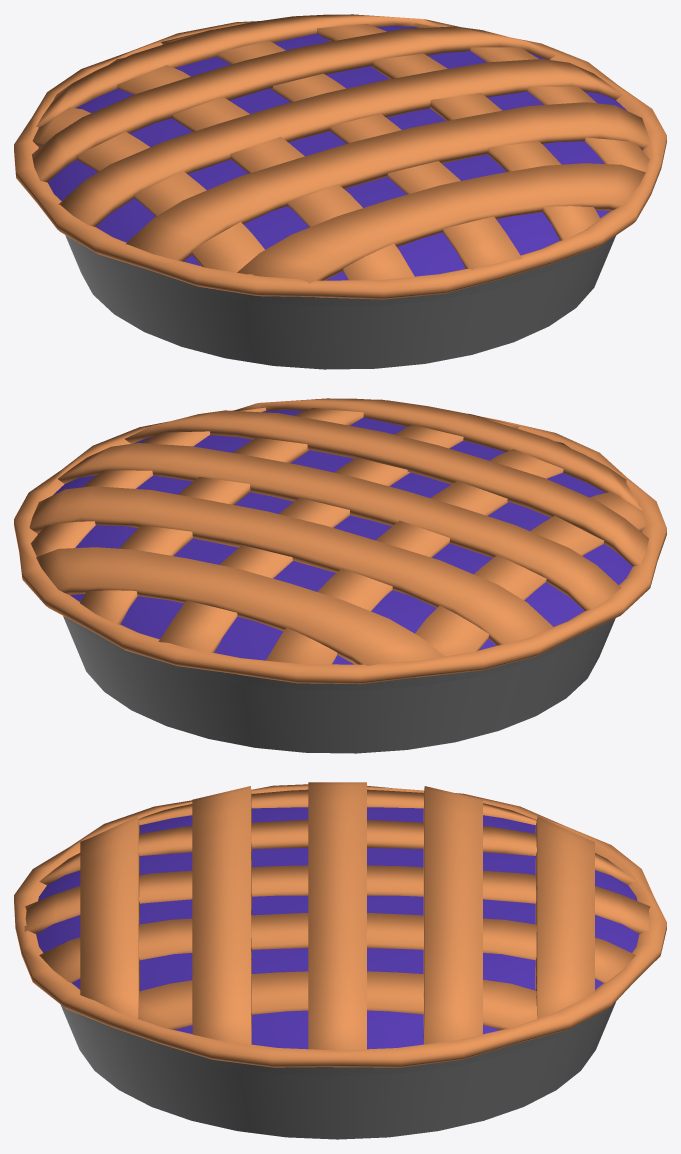
Rendered from pie.fbx.
The picture shows the model from 3 angles, top to bottom: view 1: azimuth 30°, elevation 25°; view 2: azimuth 150°, elevation 25°; view 3: azimuth 270°, elevation 25°; orthographic projection.
Parts seen in each view (by area): view 1: Pie; view 2: Pie; view 3: Pie.
Part boxes in pixels (box(x1,y1,x2,y2)): Pie: box(14, 14, 666, 369); Pie: box(14, 398, 666, 753); Pie: box(14, 782, 666, 1139).
Size of the model in its own units: 45.13 by 11.97 by 45.13.
